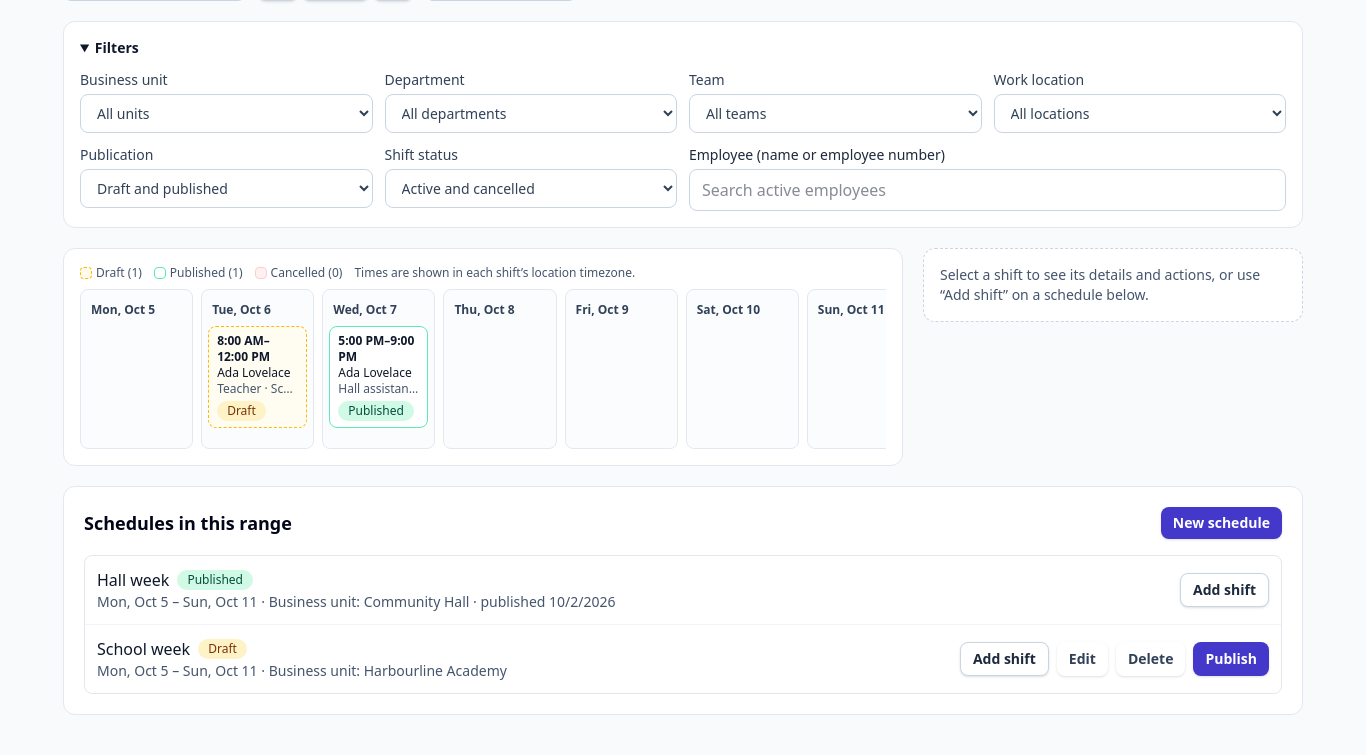
SchedulesAdminPage › confirms publication and lists the shifts that block it
(page scrolled)
Click the button named "Publish School week" at (1231, 659), box [1193,642,1269,676]
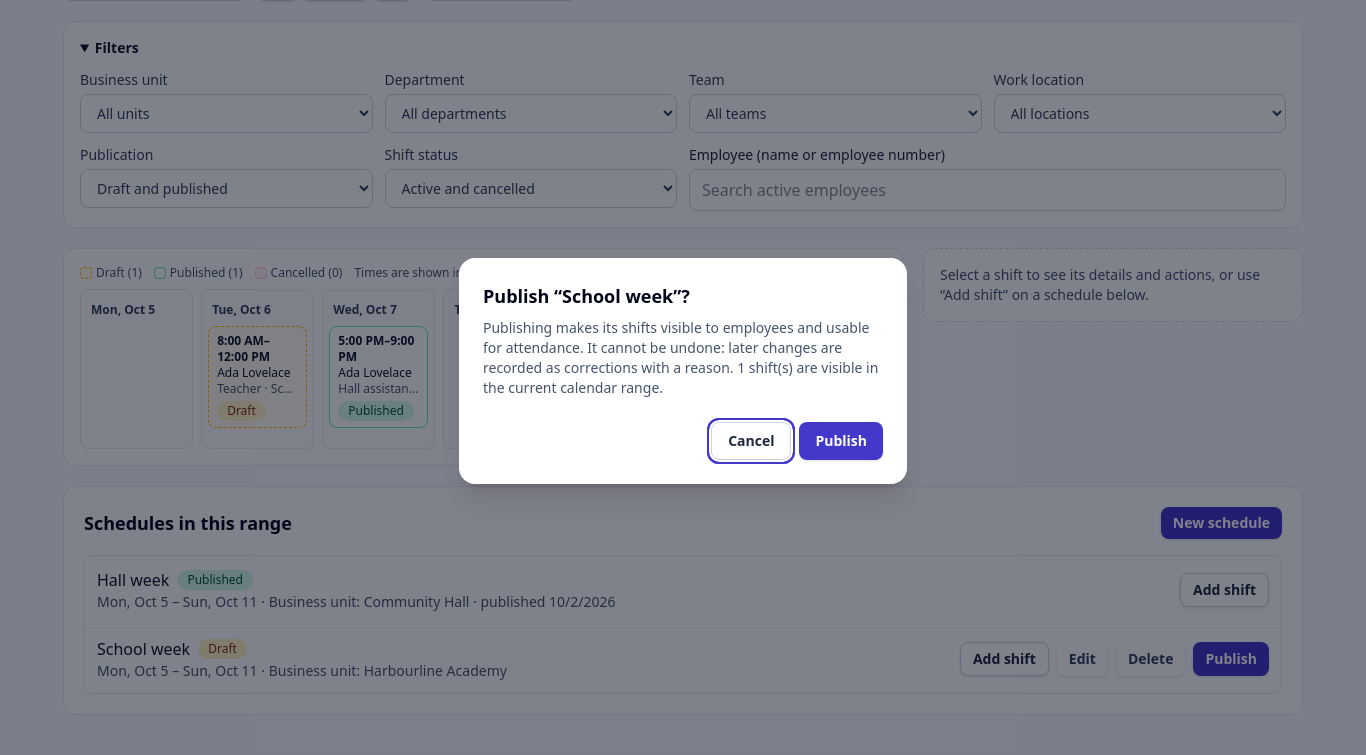
Expected: the dialog shows "cannot be undone", [483,318,878,397]
Click the button "Publish" at (841, 441), box [799,422,883,460]
(page scrolled)
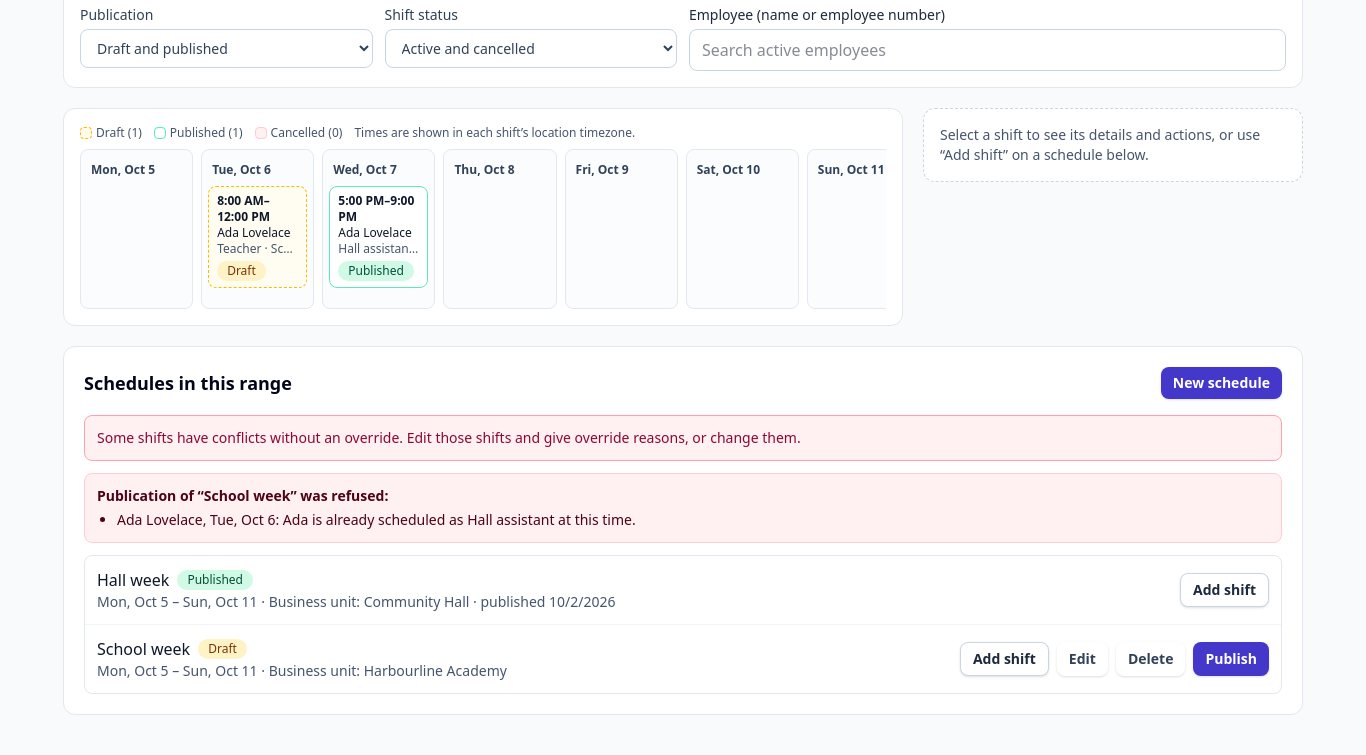
Expected: the text "Publication of “School week” was refused" shows "Ada Lovelace", [117,510,275,529]
Expected: the text "Publication of “School week” was refused" shows "Ada is already scheduled as Hall assistant at this time.", [283,510,636,529]
Expected: the text "conflicts without an override" is shown, [97,428,801,447]
Click the button named "Publish School week" at (1231, 659), box [1193,642,1269,676]
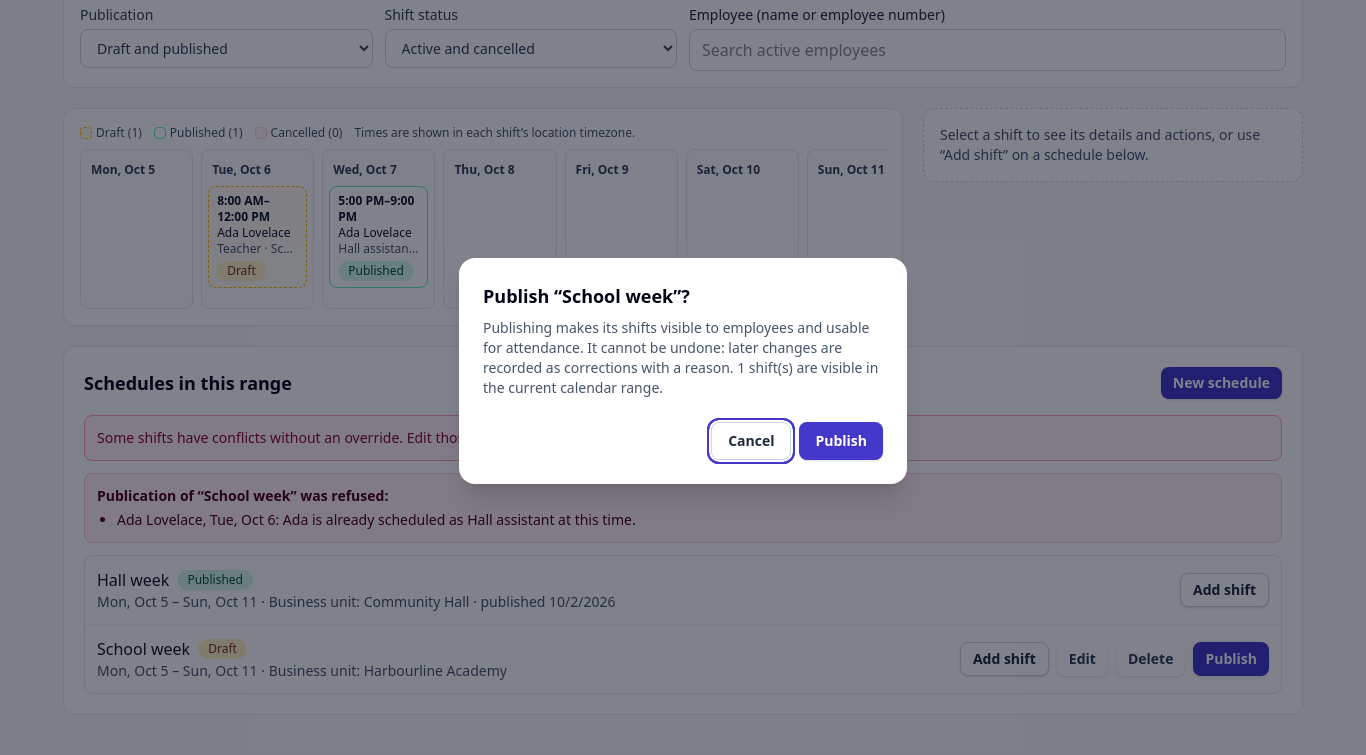
Click the button "Publish" at (841, 441), box [799,422,883,460]
(page scrolled)
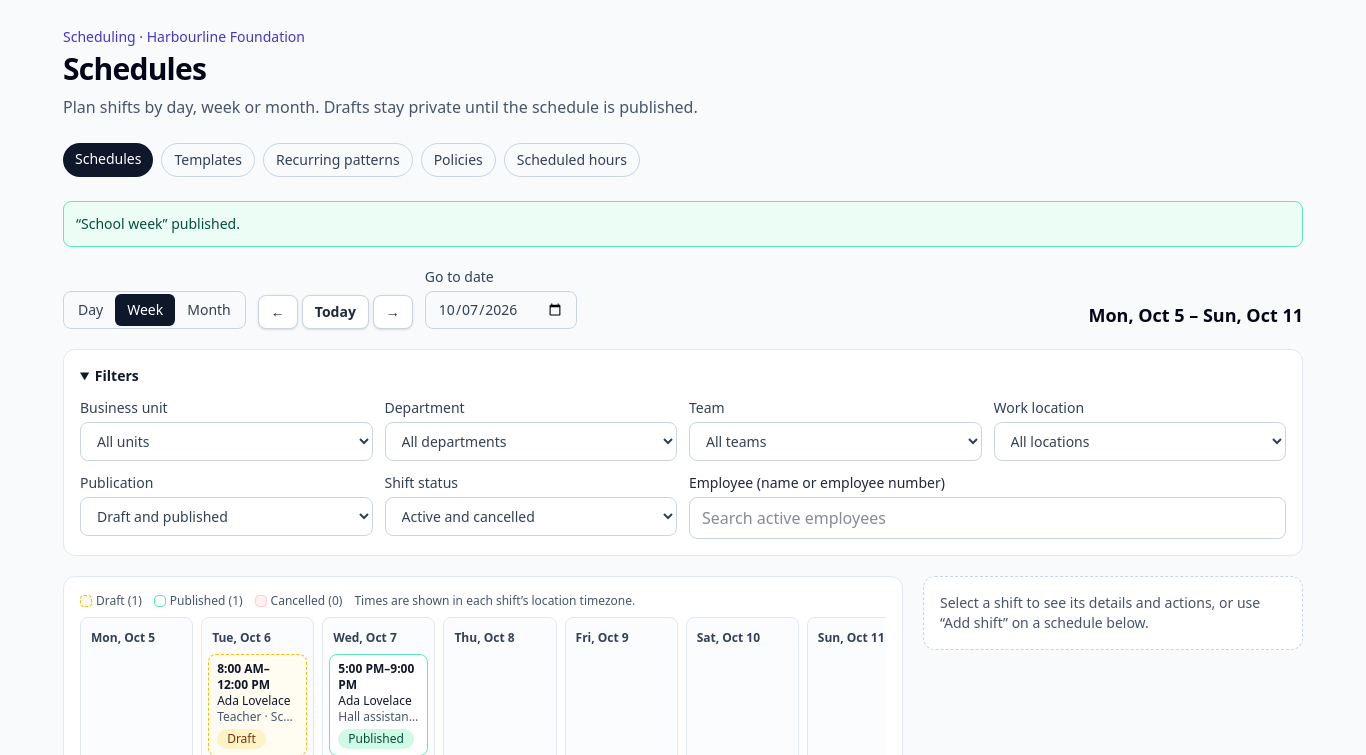
Expected: the text "“School week” published." is shown, [63,201,1303,247]
